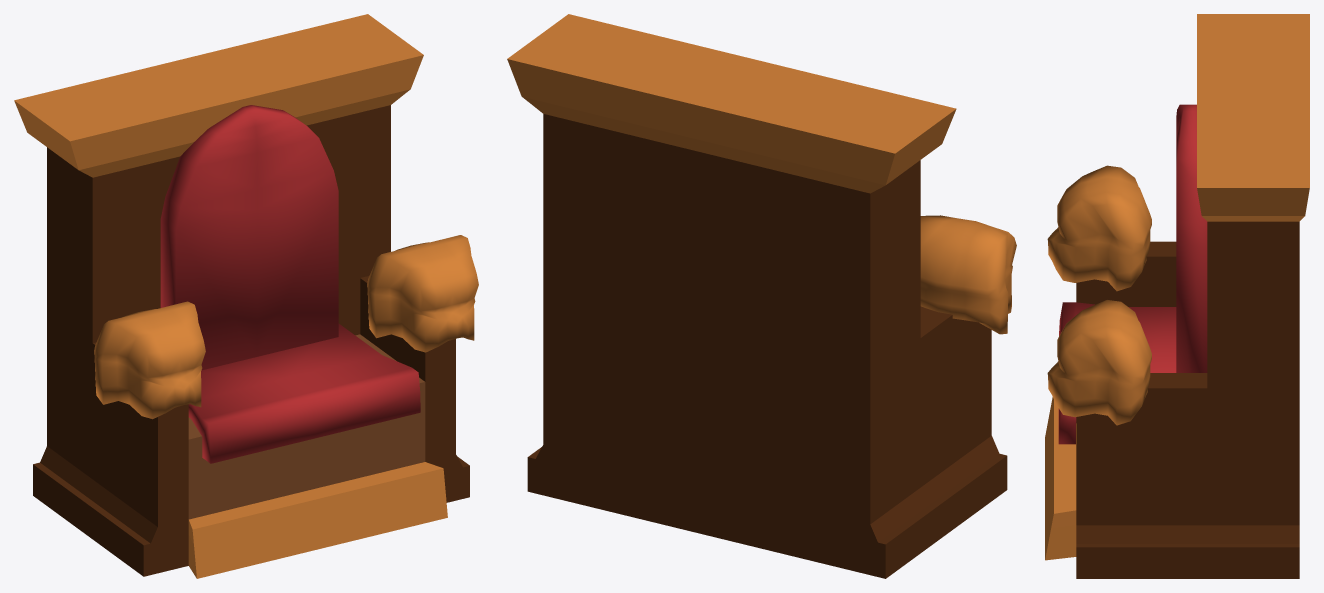
The model's file is SillonLeones.fbx.
3 renders of one model, left to right at view 1: azimuth 30°, elevation 25°; view 2: azimuth 150°, elevation 25°; view 3: azimuth 270°, elevation 25°, orthographic. The views are drawn at different scales.
Parts seen in each view (by area): view 1: Plane; view 2: Plane; view 3: Plane.
Part boxes in pixels (x1=…): Plane: x1=14, y1=14, x2=478, y2=578; Plane: x1=507, y1=14, x2=1016, y2=578; Plane: x1=1045, y1=14, x2=1309, y2=578.
Bounding box in the file's own units: 239 × 244 × 147.
